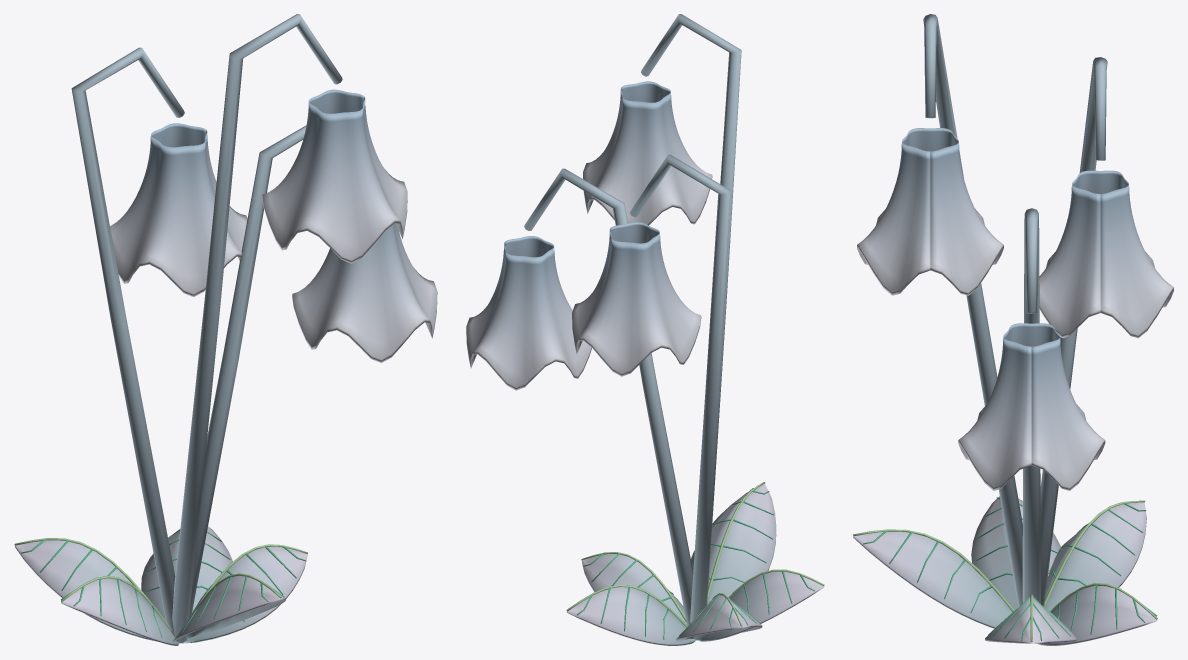
The model's file is enchanted-ghostflower.glb.
The picture shows the model from 3 angles, left to right: view 1: azimuth 30°, elevation 25°; view 2: azimuth 150°, elevation 25°; view 3: azimuth 270°, elevation 25°; orthographic projection. The views are drawn at different scales.
Visible parts, largest first — view 1: enchanted-ghostflower-sculpted-details; view 2: enchanted-ghostflower-sculpted-details; view 3: enchanted-ghostflower-sculpted-details.
Part boxes in pixels (left/top/right/bottom): enchanted-ghostflower-sculpted-details: left=14, top=14, right=437, bottom=645; enchanted-ghostflower-sculpted-details: left=466, top=14, right=824, bottom=645; enchanted-ghostflower-sculpted-details: left=853, top=14, right=1173, bottom=645.
Size of the model in its own units: 0.6216 by 1 by 0.4483.
